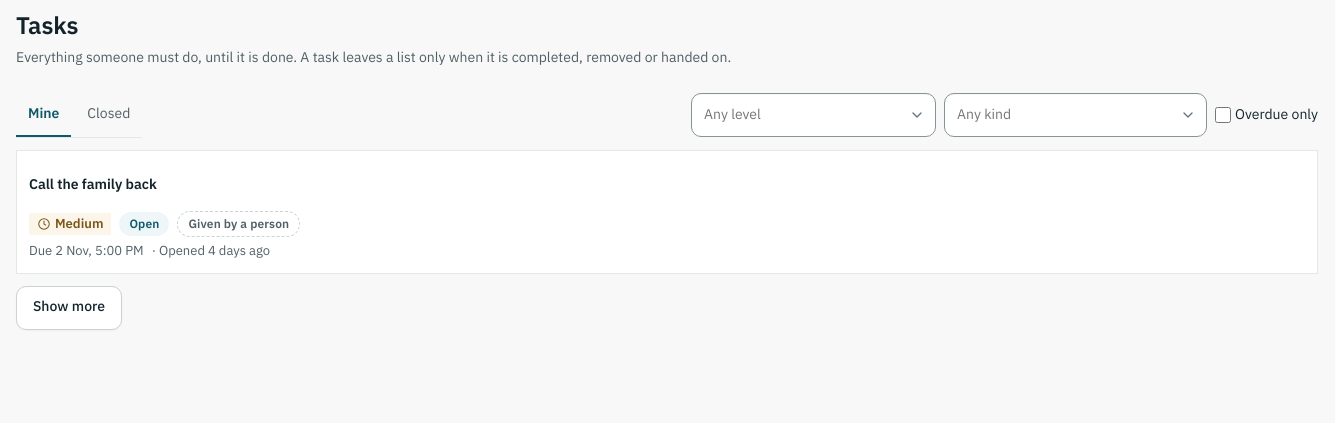
Test: the list › pages with the server's cursor
Click the button "Show more".
click(69, 308)  # box [16, 286, 122, 330]
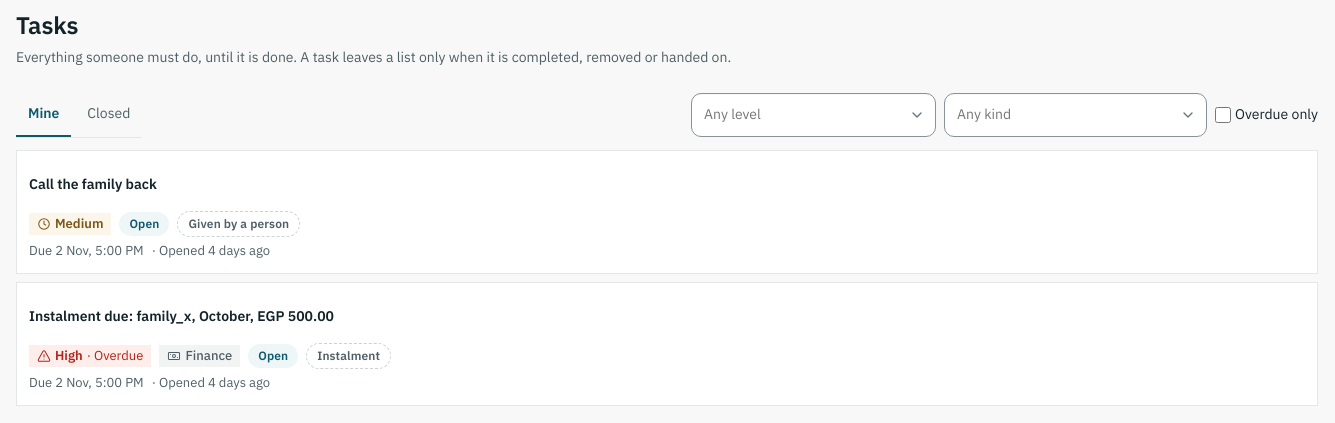
Result: the number of list items is 2 at [16, 150, 1318, 274]; [16, 282, 1318, 406]
